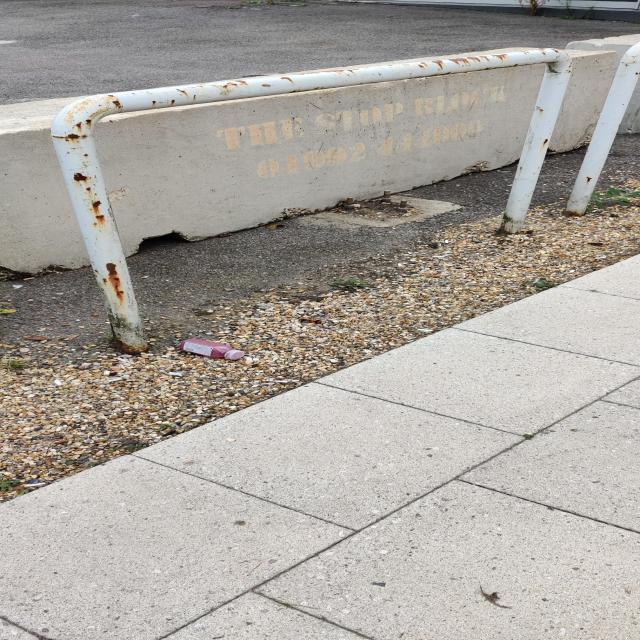litter: (169, 332, 253, 361)
